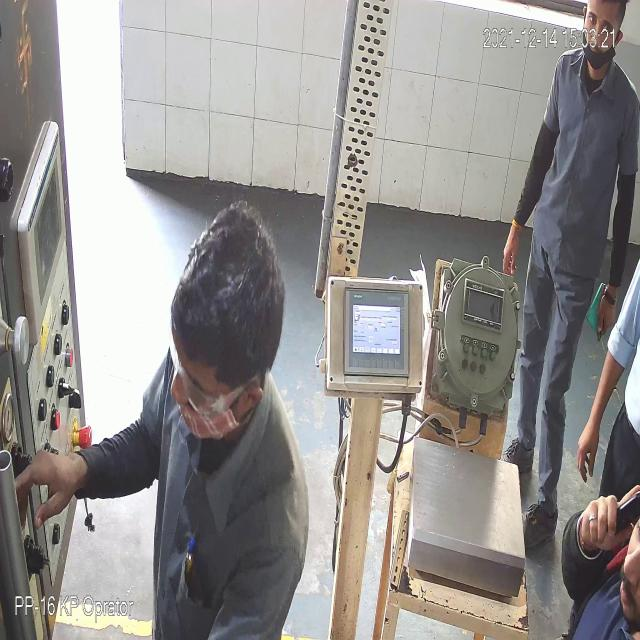No Glove: (15, 451, 89, 528), (578, 356, 621, 480), (499, 217, 524, 278), (599, 283, 619, 334), (502, 221, 521, 274)
No Hardhat: (172, 201, 285, 389), (328, 124, 371, 276)
No Overall Suit: (518, 51, 640, 535), (110, 354, 308, 639)
